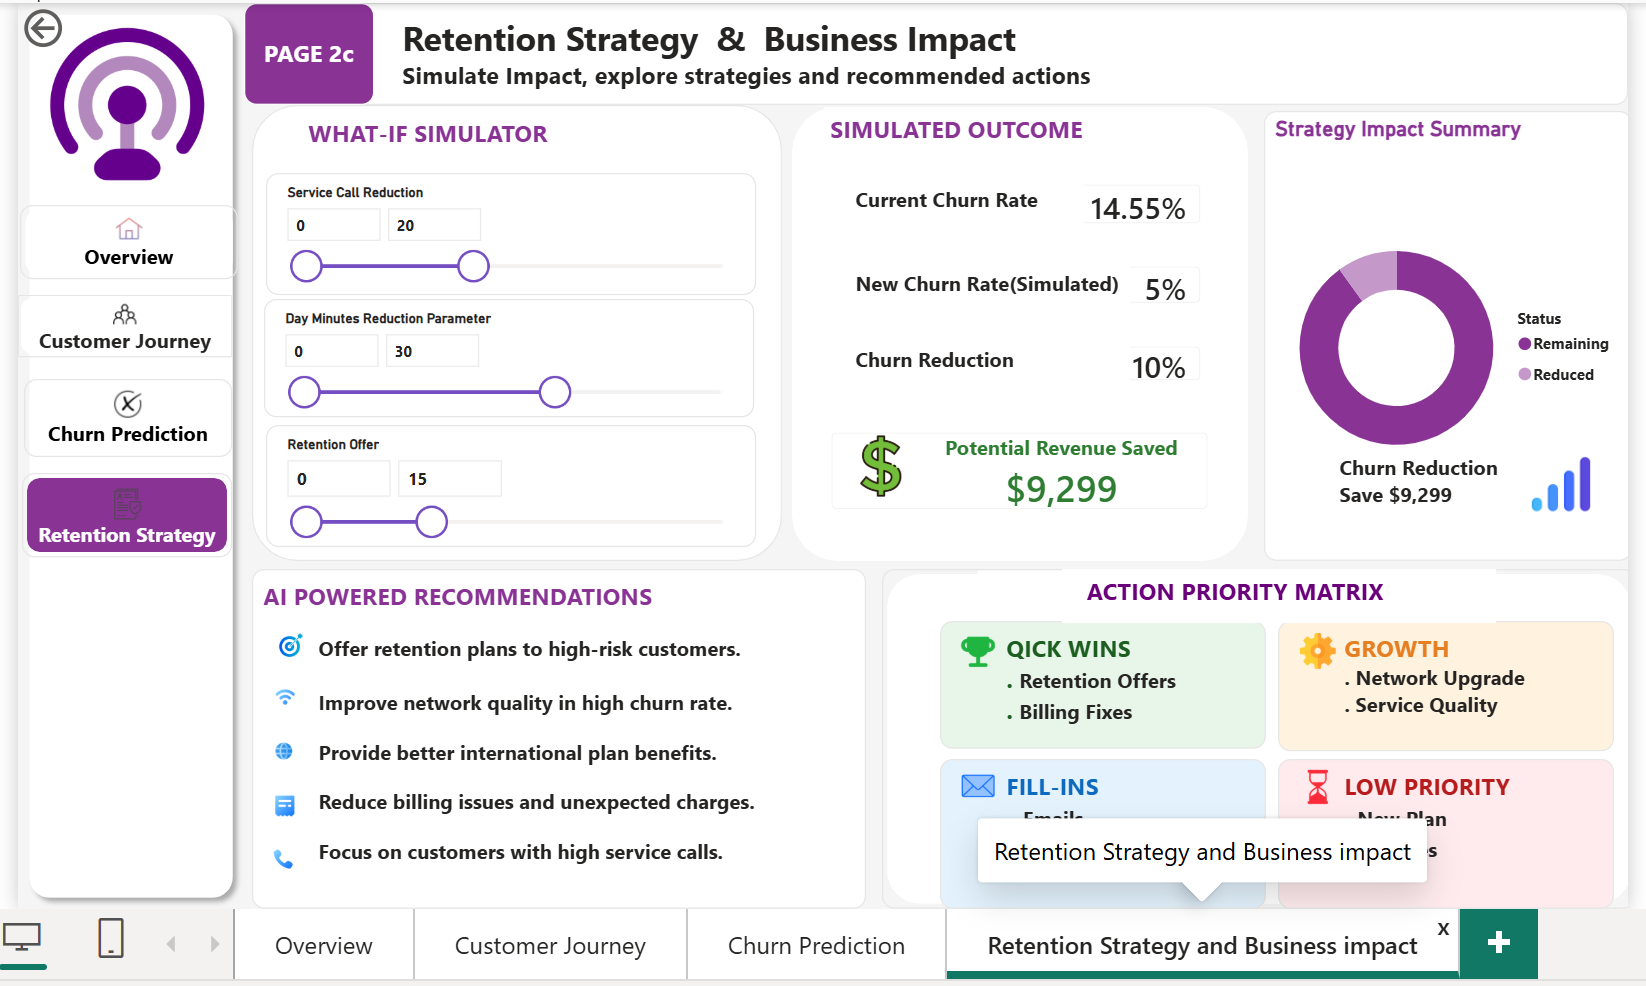

The page's visual inventory and layout, read from the dashboard file:
{"tool":"powerbi","page":{"name":"Retention Strategy and Business impact","canvas":[1280,720],"ordinal":3},"visuals":[{"type":"image","box":[743.8,456.2,85.8,28.6],"z":0},{"type":"textbox","box":[762.9,449.8,314.7,41.3],"z":1000},{"type":"shape","box":[686.6,449.8,599.2,270.2],"z":2000},{"type":"shape","box":[615.1,82.6,362.4,360.8],"z":3000},{"type":"shape","title":"WHAT-IF SUMULATOR","box":[186,81.1,421.2,362.4],"z":4000},{"type":"shape","box":[0,0,179.6,720],"z":5000},{"type":"image","box":[19.1,14.3,135.1,133.5],"z":6000},{"type":"actionButton","box":[1.6,160.5,173.2,58.8],"z":7000},{"type":"actionButton","box":[0,232.1,170.1,49.3],"z":8000},{"type":"actionButton","box":[4.8,298.8,165.3,62],"z":9000},{"type":"actionButton","box":[3.2,373.5,166.9,66.8],"z":10000},{"type":"textbox","box":[179.6,0,1099.9,81.1],"z":11000},{"type":"textbox","box":[179.6,0,103.3,81.1],"z":12000},{"type":"actionButton","box":[0,0,100,40],"z":13000},{"type":"slicer","fields":{"Values":["Retention Offer.Retention Offer"]},"box":[197.1,335.4,389.4,97],"z":14000},{"type":"textbox","box":[225.7,85.8,359.2,54],"z":15000},{"type":"cardVisual","fields":{"Data":["telecom churn.CHURN RATE %"]},"box":[616.7,127.2,340.1,65.2],"z":16000},{"type":"textbox","box":[616.7,139.9,230.5,46.1],"z":17000},{"type":"cardVisual","fields":{"Data":["telecom churn.NEW CHURN RATE %"]},"box":[616.7,192.3,340.1,63.6],"z":18000},{"type":"cardVisual","fields":{"Data":["telecom churn.Churn Reduction %"]},"box":[616.7,255.9,340.1,62],"z":19000},{"type":"textbox","box":[616.7,206.6,267,54],"z":20000},{"type":"textbox","box":[616.7,267,267,39.7],"z":21000},{"type":"cardVisual","fields":{"Data":["telecom churn.Potential Revenue Saved"]},"box":[629.4,324.2,333.8,95.4],"z":22000},{"type":"textbox","box":[640.5,82.6,305.2,57.2],"z":23000},{"type":"slicer","fields":{"Values":["Service Call Reduction.Service Call Reduction"]},"box":[197.1,135.1,389.4,97],"z":24000},{"type":"slicer","fields":{"Values":["Day Minutes Reduction Parameter.Day Minutes Reduction Parameter"]},"box":[195.5,235.2,389.4,93.8],"z":25000},{"type":"textbox","box":[186,449.8,487.9,270.2],"z":26000},{"type":"image","box":[197.1,500.7,39.7,19.1],"z":27000},{"type":"image","box":[192.3,543.6,39.7,15.9],"z":28000},{"type":"image","box":[190.7,586.5,41.3,15.9],"z":29000},{"type":"image","box":[192.3,629.4,39.7,17.5],"z":30000},{"type":"image","box":[190.7,672.3,39.7,15.9],"z":31000},{"type":"donutChart","title":" Strategy Impact Summary","fields":{"Category":["Table.Status"],"Y":["Sum(Table.Value)"]},"box":[990.2,85.8,292.5,357.6],"z":32000},{"type":"textbox","box":[1001.3,352.8,278.1,60.4],"z":33000},{"type":"image","box":[1173,357.6,106.5,49.3],"z":34000},{"type":"textbox","box":[732.7,491.1,259.1,101.7],"z":35000},{"type":"textbox","box":[732.7,600.8,259.1,119.2],"z":36000},{"type":"textbox","box":[1001.3,600.8,267,119.2],"z":37000},{"type":"image","box":[720,500.7,85.8,30.2],"z":38000},{"type":"image","box":[720,607.2,85.8,30.2],"z":39000},{"type":"image","box":[990.2,500.7,85.8,28.6],"z":40000},{"type":"image","box":[990.2,608.7,85.8,28.6],"z":41000},{"type":"textbox","box":[1001.3,491.1,267,103.3],"z":42000},{"type":"textbox","box":[829.7,449.8,344.9,42.9],"z":42001},{"type":"image","box":[990.2,500.7,85.8,28.6],"z":42002}]}

Visuals, with their boxes on the page's 1280x720 design canvas (x1, y1, x2, y2). These are canvas units, not pixel positions in the 1646x986 screenshot, which may show the page scaled, cropped or inside an application window:
image: Rect(744, 456, 830, 485)
textbox: Rect(763, 450, 1078, 491)
shape: Rect(687, 450, 1286, 720)
shape: Rect(615, 83, 978, 443)
"WHAT-IF SUMULATOR" shape: Rect(186, 81, 607, 444)
shape: Rect(0, 0, 180, 720)
image: Rect(19, 14, 154, 148)
actionButton: Rect(2, 160, 175, 219)
actionButton: Rect(0, 232, 170, 281)
actionButton: Rect(5, 299, 170, 361)
actionButton: Rect(3, 374, 170, 440)
textbox: Rect(180, 0, 1280, 81)
textbox: Rect(180, 0, 283, 81)
actionButton: Rect(0, 0, 100, 40)
slicer - Retention Offer.Retention Offer: Rect(197, 335, 586, 432)
textbox: Rect(226, 86, 585, 140)
cardVisual - telecom churn.CHURN RATE %: Rect(617, 127, 957, 192)
textbox: Rect(617, 140, 847, 186)
cardVisual - telecom churn.NEW CHURN RATE %: Rect(617, 192, 957, 256)
cardVisual - telecom churn.Churn Reduction %: Rect(617, 256, 957, 318)
textbox: Rect(617, 207, 884, 261)
textbox: Rect(617, 267, 884, 307)
cardVisual - telecom churn.Potential Revenue Saved: Rect(629, 324, 963, 420)
textbox: Rect(640, 83, 946, 140)
slicer - Service Call Reduction.Service Call Reduction: Rect(197, 135, 586, 232)
slicer - Day Minutes Reduction Parameter.Day Minutes Reduction Parameter: Rect(196, 235, 585, 329)
textbox: Rect(186, 450, 674, 720)
image: Rect(197, 501, 237, 520)
image: Rect(192, 544, 232, 560)
image: Rect(191, 586, 232, 602)
image: Rect(192, 629, 232, 647)
image: Rect(191, 672, 230, 688)
" Strategy Impact Summary" donutChart: Rect(990, 86, 1283, 443)
textbox: Rect(1001, 353, 1279, 413)
image: Rect(1173, 358, 1280, 407)
textbox: Rect(733, 491, 992, 593)
textbox: Rect(733, 601, 992, 720)
textbox: Rect(1001, 601, 1268, 720)
image: Rect(720, 501, 806, 531)
image: Rect(720, 607, 806, 637)
image: Rect(990, 501, 1076, 529)
image: Rect(990, 609, 1076, 637)
textbox: Rect(1001, 491, 1268, 594)
textbox: Rect(830, 450, 1175, 493)
image: Rect(990, 501, 1076, 529)
